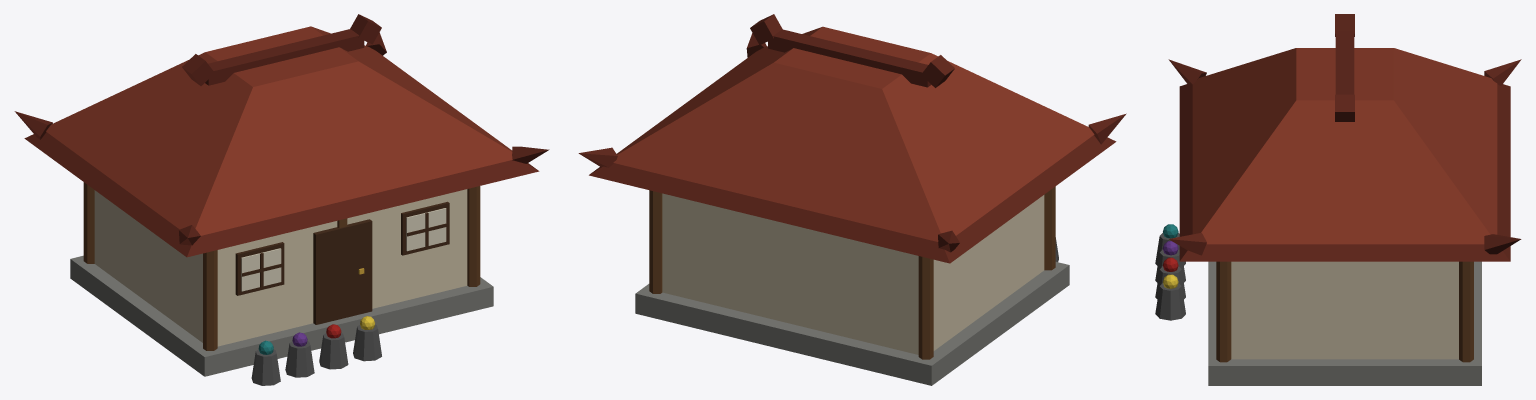
Rendered from SM_GZ_alchemy_ember.fbx.
3 renders of one model, left to right at view 1: azimuth 30°, elevation 25°; view 2: azimuth 150°, elevation 25°; view 3: azimuth 270°, elevation 25°, orthographic. The views are drawn at different scales.
Visible parts, largest first — view 1: SM_GZ_alchemy_ember; view 2: SM_GZ_alchemy_ember; view 3: SM_GZ_alchemy_ember.
Boxes of the visible parts, box(x1,y1,x2,y2) form: SM_GZ_alchemy_ember: box(14, 14, 549, 385); SM_GZ_alchemy_ember: box(578, 14, 1126, 385); SM_GZ_alchemy_ember: box(1155, 14, 1521, 385).
Size of the model in its own units: 964 by 649 by 830.
